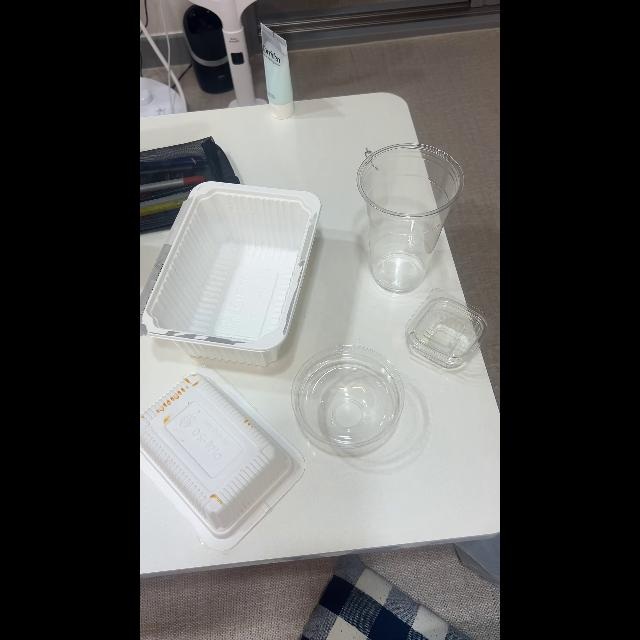clean: (141, 185, 321, 357), (357, 144, 463, 294), (292, 346, 406, 449), (406, 294, 489, 368)
dirty: (141, 375, 289, 533)
